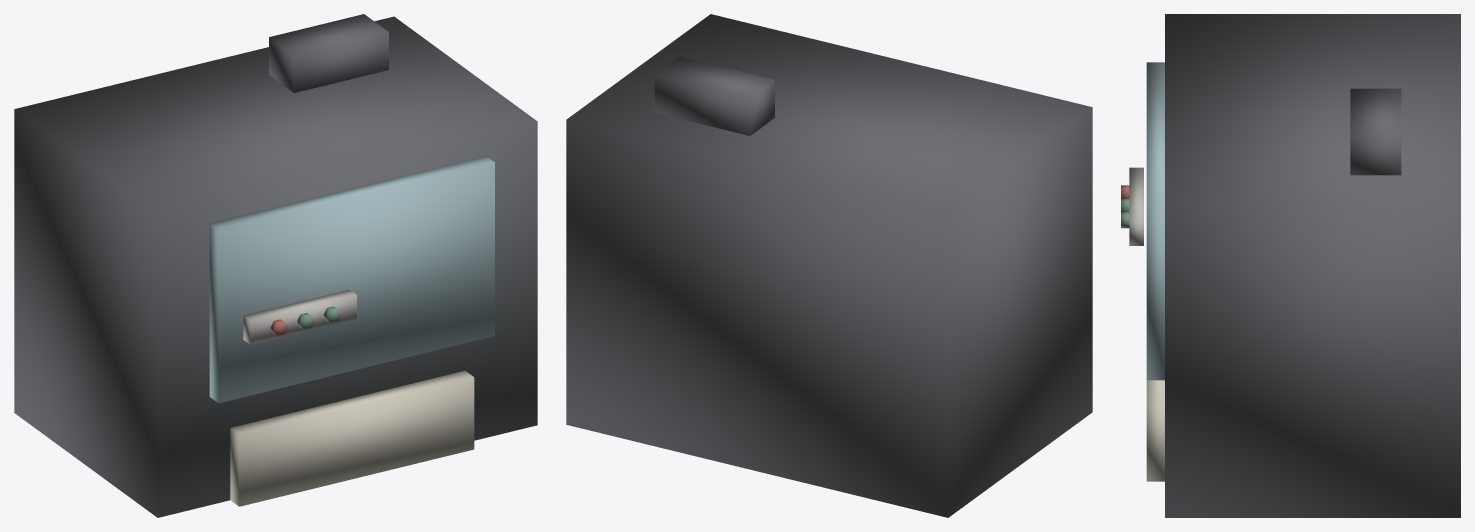
Rendered from terminal_pedestal__service.glb.
3 views of the same model, side by side, from view 1: azimuth 30°, elevation 25°; view 2: azimuth 150°, elevation 25°; view 3: azimuth 270°, elevation 25° (orthographic). The views are drawn at different scales.
Visible parts, largest first — view 1: world; view 2: world; view 3: world.
Part boxes in pixels (x1,y1,x2,y2): world: (14,14,537,517); world: (566,14,1092,517); world: (1121,14,1460,517).
Bounding box in the file's own units: 0.55 × 0.4725 × 0.4135.
